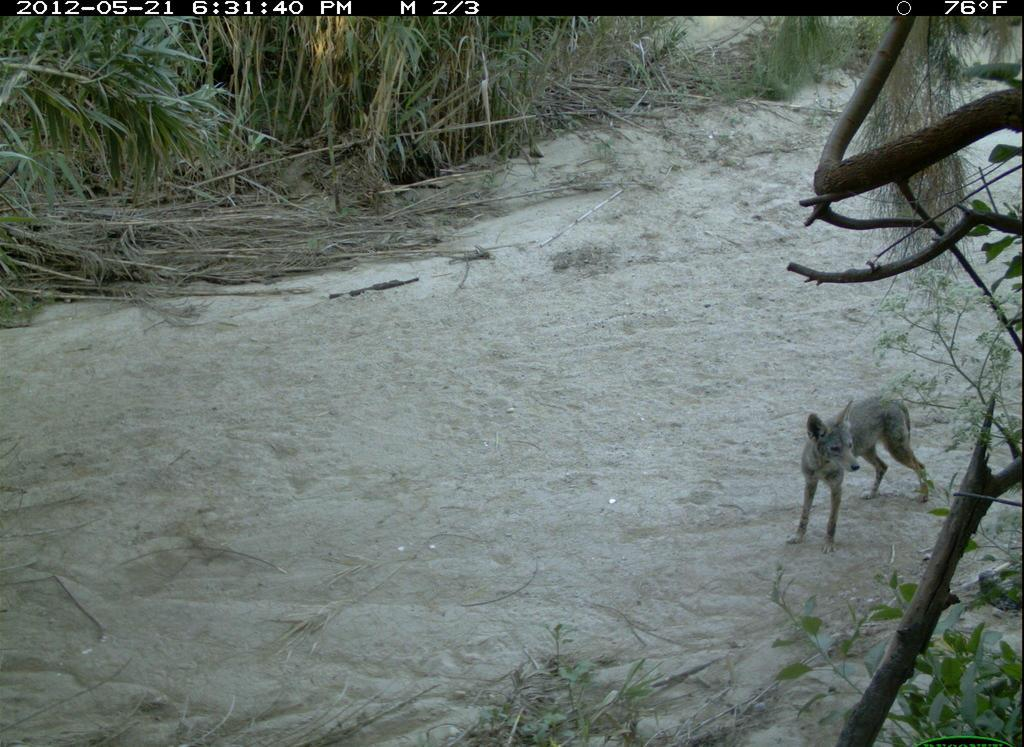coyote: (786, 393, 931, 556)
